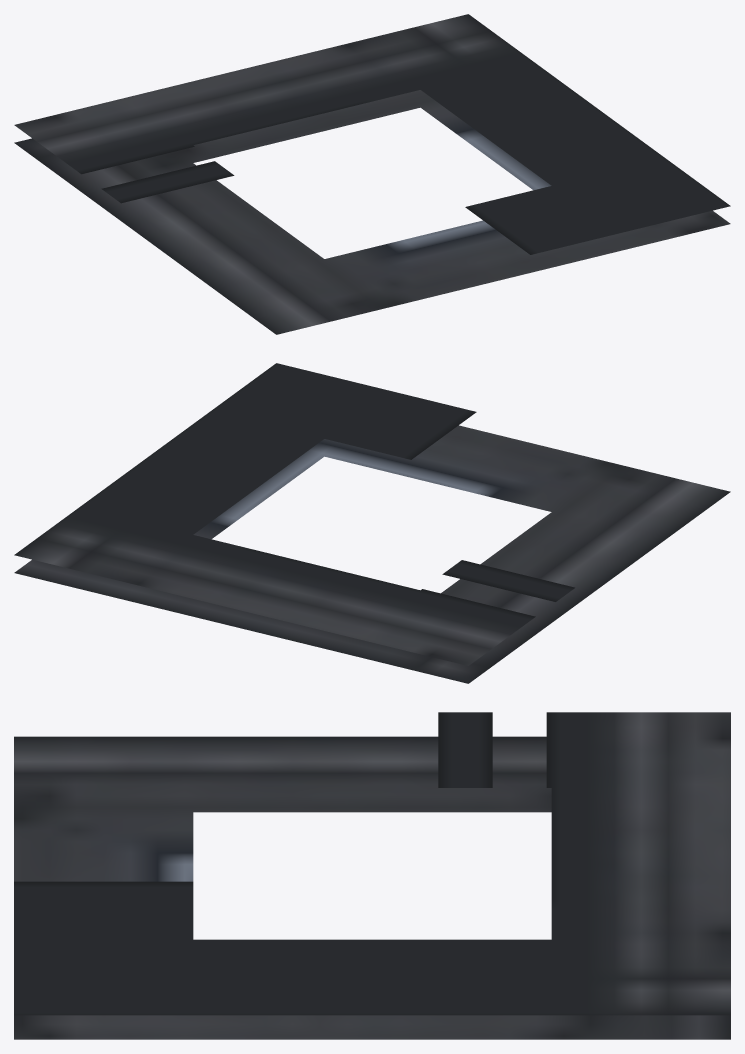
The model's file is deck_top.obj.
The picture shows the model from 3 angles, top to bottom: view 1: azimuth 30°, elevation 25°; view 2: azimuth 150°, elevation 25°; view 3: azimuth 270°, elevation 25°; orthographic projection. The views are drawn at different scales.
Visible parts, largest first — view 1: deck_top__deck_top_plate; view 2: deck_top__deck_top_plate; view 3: deck_top__deck_top_plate.
Part boxes in pixels (x1,y1,x2,y2): deck_top__deck_top_plate: [14, 14, 730, 334]; deck_top__deck_top_plate: [14, 363, 730, 683]; deck_top__deck_top_plate: [14, 712, 730, 1039].
Bounding box in the file's own units: 1 × 0.0888 × 1.
